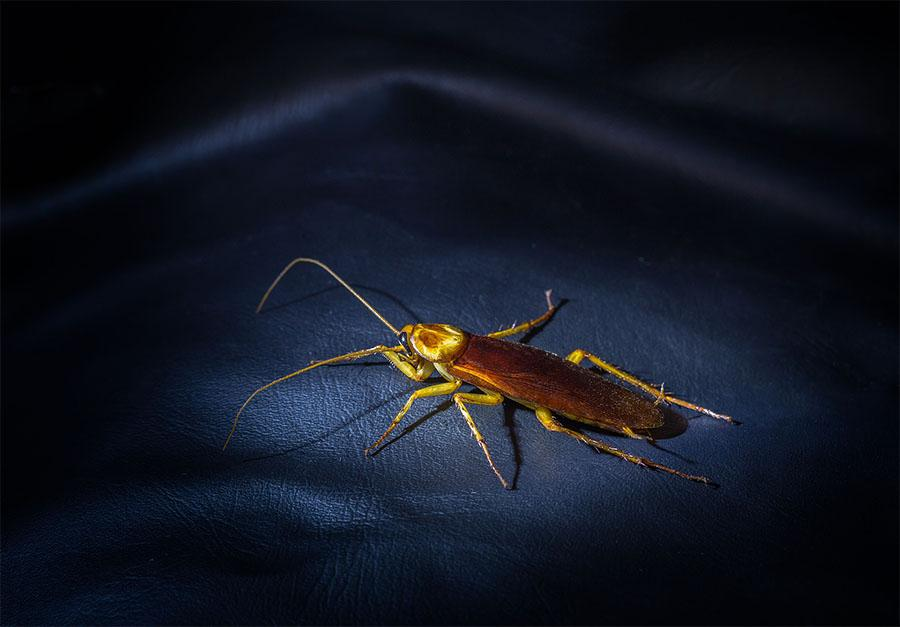cockroach: (370, 316, 682, 448)
